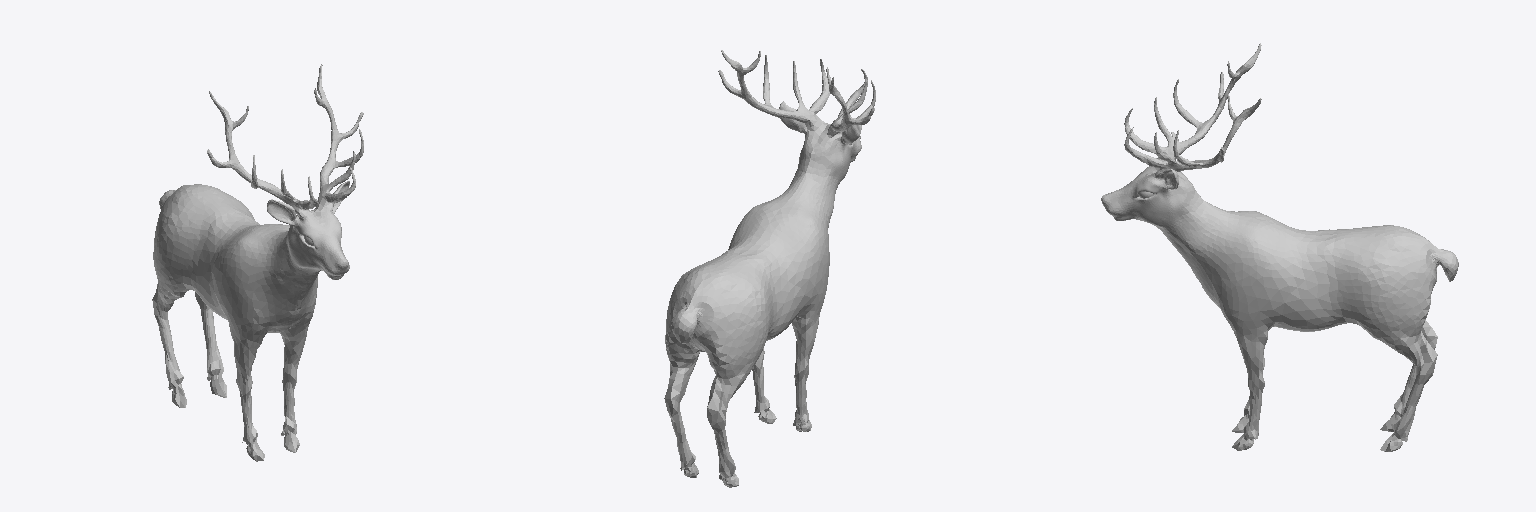
The model's file is Deer.obj.
The picture shows the model from 3 angles: view 1: azimuth 30°, elevation 25°; view 2: azimuth 150°, elevation 25°; view 3: azimuth 270°, elevation 25°; orthographic projection.
Bounding box in the file's own units: 55.07 × 124 × 108.